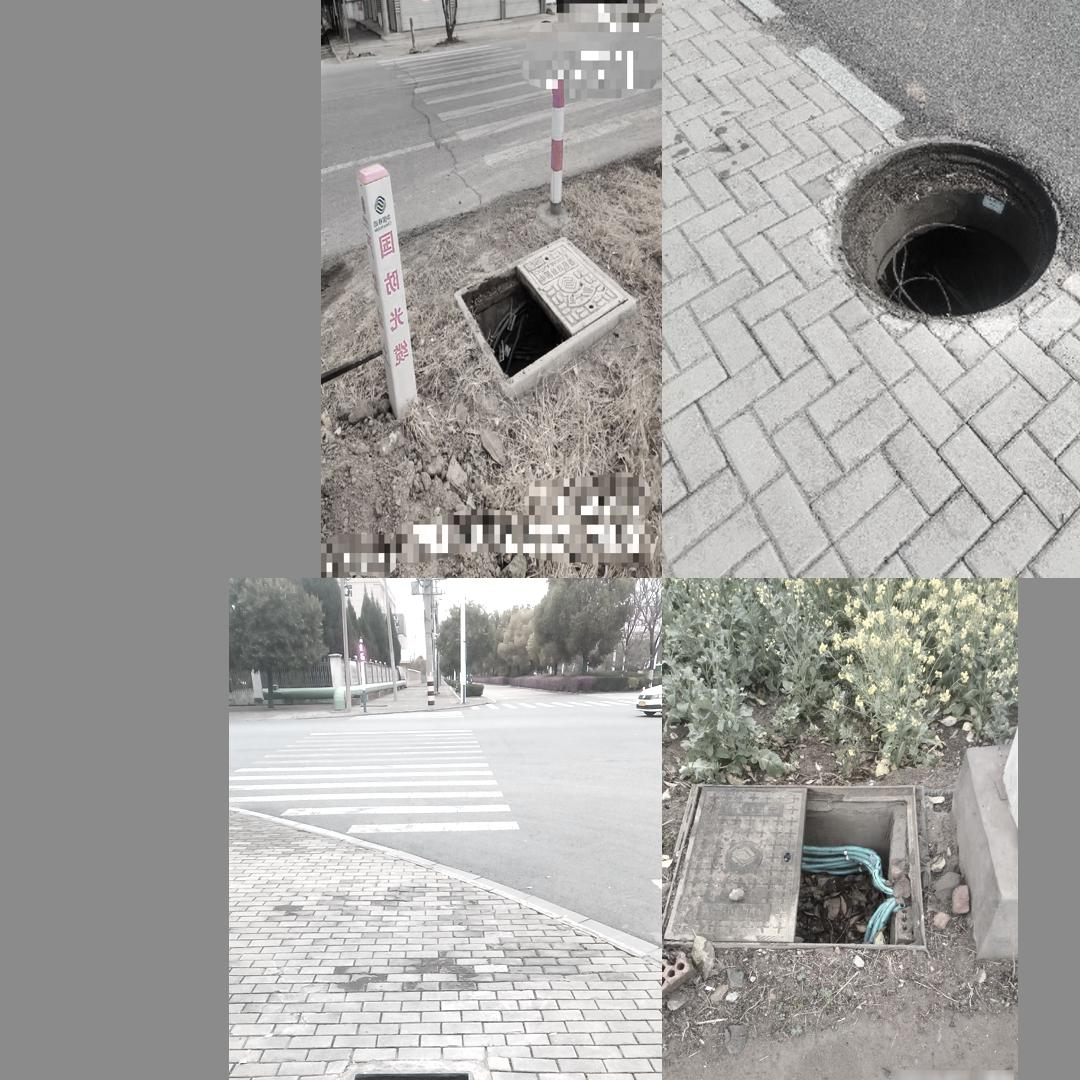lose: (662, 781, 929, 952), (829, 136, 1063, 324), (444, 220, 597, 394), (300, 1047, 489, 1080)
